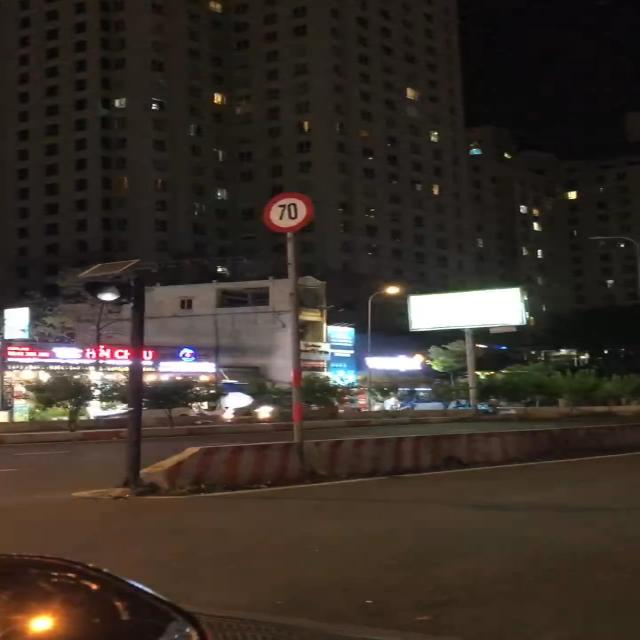Bien bao toc do toi da cho phep: (255, 188, 320, 236)
